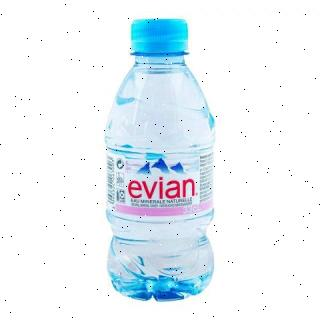Plastic-bottle: (102, 13, 222, 305)
